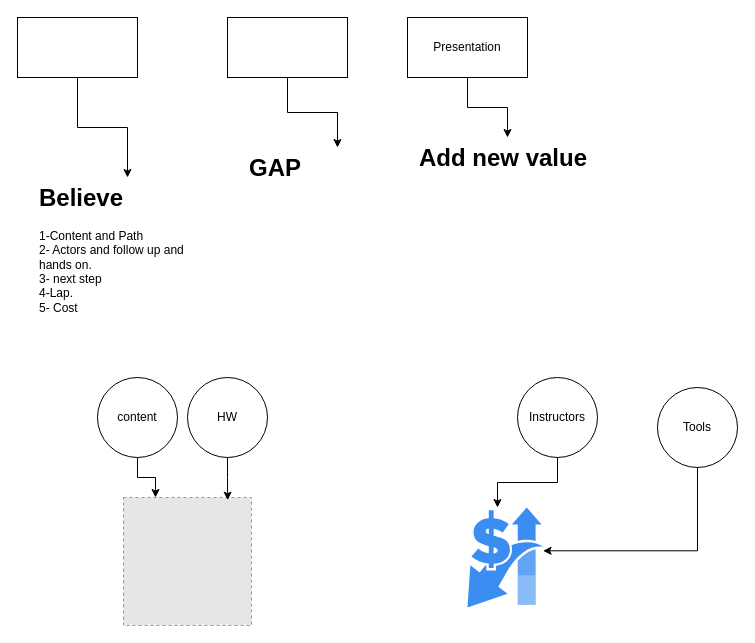
Some shapes in this 755 by 643 pixel diagram are drawn without their labels. Grey dashed boxes stand in for pictures. The shapes that lost their labels are listed below. From the top down, each one's centre as x and y in pixels, then its label:
the point at 77,47: Parents
the point at 287,47: Competitors
